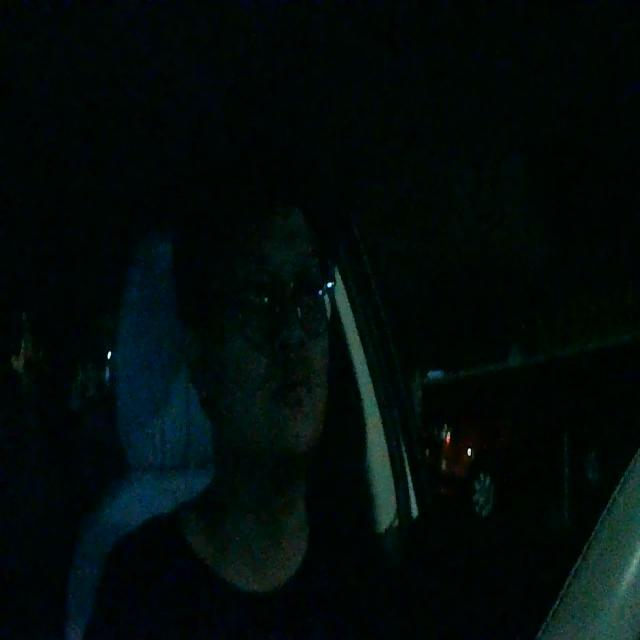Attentive: (182, 153, 347, 463)
Eye-Open: (243, 286, 269, 316), (302, 283, 322, 310)
Normal: (274, 370, 313, 410)
